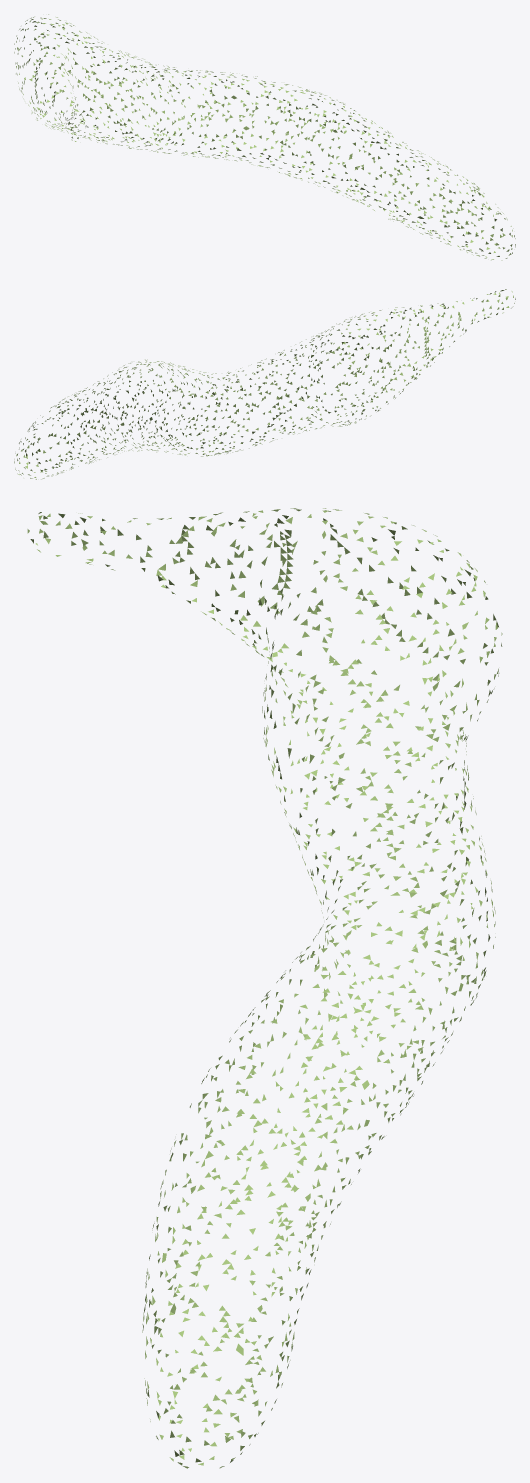
Rendered from morph_012.glb.
3 renders of one model, top to bottom at view 1: azimuth 30°, elevation 25°; view 2: azimuth 150°, elevation 25°; view 3: azimuth 270°, elevation 25°, orthographic. The views are drawn at different scales.
Bounding box in the file's own units: 101 × 60.3 × 45.27.
